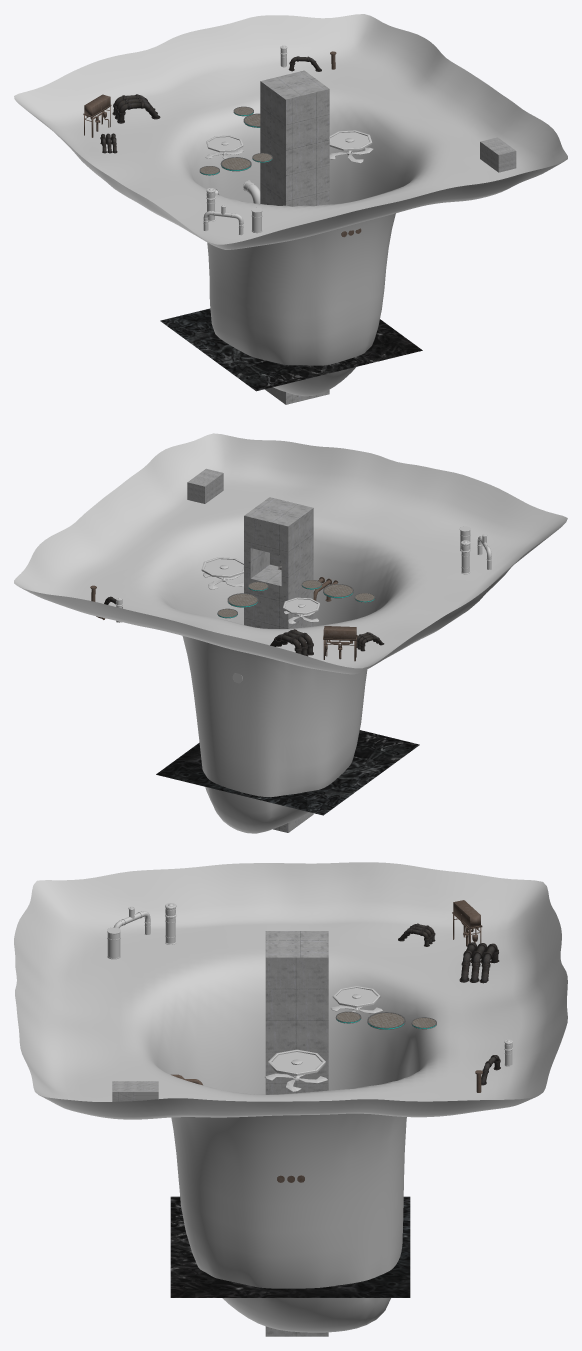
The model's file is map3_v2.fbx.
3 renders of one model, top to bottom at view 1: azimuth 30°, elevation 25°; view 2: azimuth 150°, elevation 25°; view 3: azimuth 270°, elevation 25°, orthographic. The views are drawn at different scales.
Visible parts, largest first — view 1: pPlane1, tower_Mesh, oil, pCube2, Platform1, RUS_CET_propsF_2, post1, Platform2; view 2: pPlane1, tower_Mesh, oil, pCube2, post1, Platform1, RUS_CET_propsF_2, Platform2; view 3: pPlane1, tower_Mesh, oil, RUS_CET_propsF_2, Platform1, pCube2, post1, Platform2.
Boxes of the visible parts, x1,y1,x2,y2 form: pPlane1: (14, 14, 567, 396); tower_Mesh: (260, 70, 329, 404); oil: (160, 308, 422, 391); pCube2: (480, 137, 516, 172); Platform1: (329, 130, 372, 153); RUS_CET_propsF_2: (112, 94, 160, 123); post1: (83, 94, 111, 137); Platform2: (206, 135, 243, 154); pPlane1: (14, 433, 567, 833); tower_Mesh: (244, 497, 313, 832); oil: (156, 730, 419, 815); pCube2: (187, 468, 223, 503); post1: (323, 626, 357, 661); Platform1: (201, 557, 243, 581); RUS_CET_propsF_2: (270, 629, 313, 656); Platform2: (283, 597, 320, 616); pPlane1: (14, 862, 567, 1332); tower_Mesh: (265, 931, 328, 1336); oil: (170, 1196, 410, 1297); RUS_CET_propsF_2: (459, 942, 499, 983); Platform1: (268, 1049, 325, 1078); pCube2: (112, 1081, 158, 1101); post1: (452, 900, 482, 946); Platform2: (332, 986, 380, 1009).
Bounding box in the file's own units: 1364 × 1029 × 1363.
